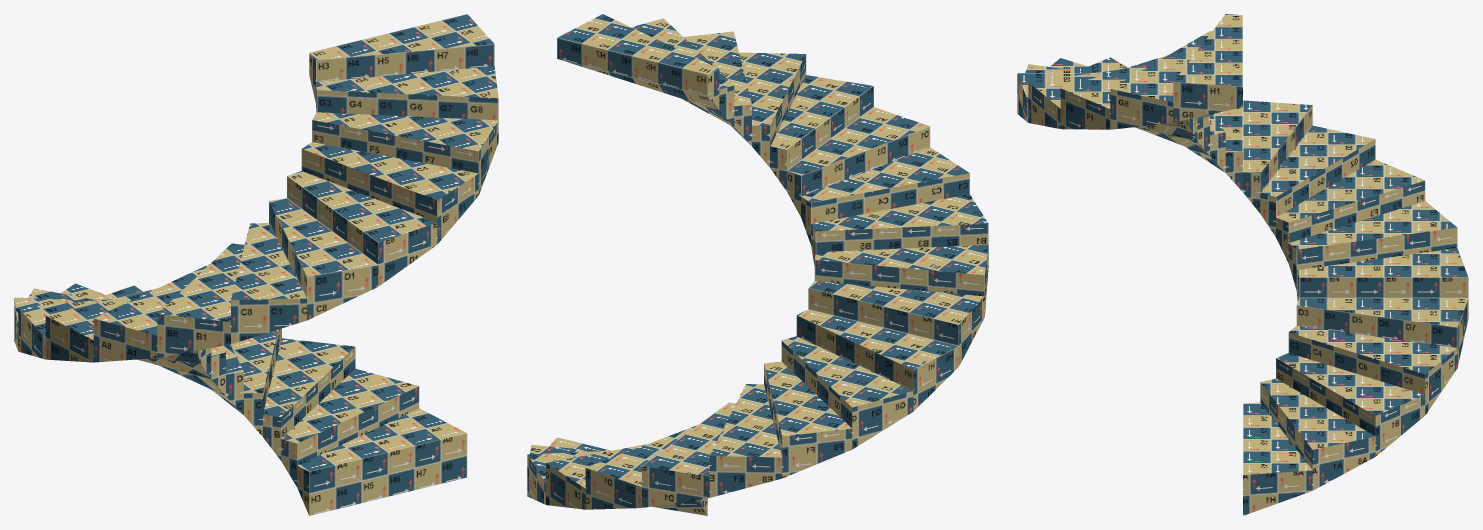
Rendered from STAIR_Spiral.fbx.
3 views of the same model, side by side, from view 1: azimuth 30°, elevation 25°; view 2: azimuth 150°, elevation 25°; view 3: azimuth 270°, elevation 25° (orthographic). The views are drawn at different scales.
Visible parts, largest first — view 1: STAIR_Spiral; view 2: STAIR_Spiral; view 3: STAIR_Spiral.
Boxes of the visible parts, <box> form: STAIR_Spiral: <box>14,14,498,515</box>; STAIR_Spiral: <box>527,14,988,515</box>; STAIR_Spiral: <box>1017,14,1468,515</box>.
Bounding box in the file's own units: 400 × 420 × 400.
2 materials, 2 textured.
